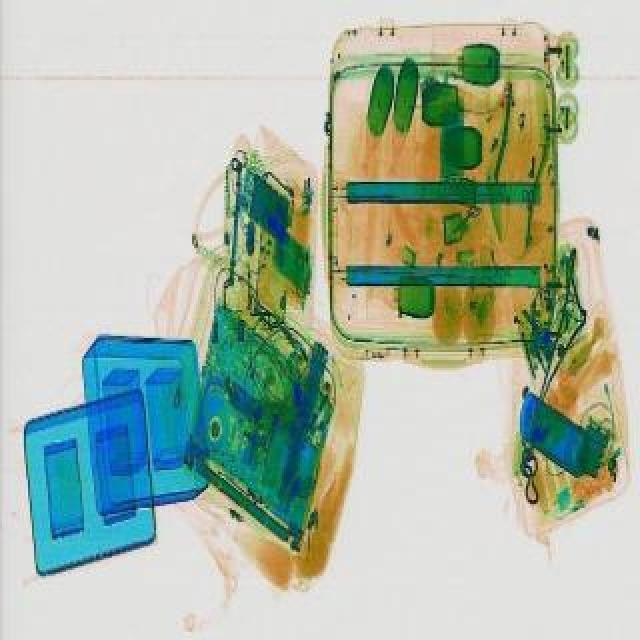pliers: (450, 200, 482, 232)
